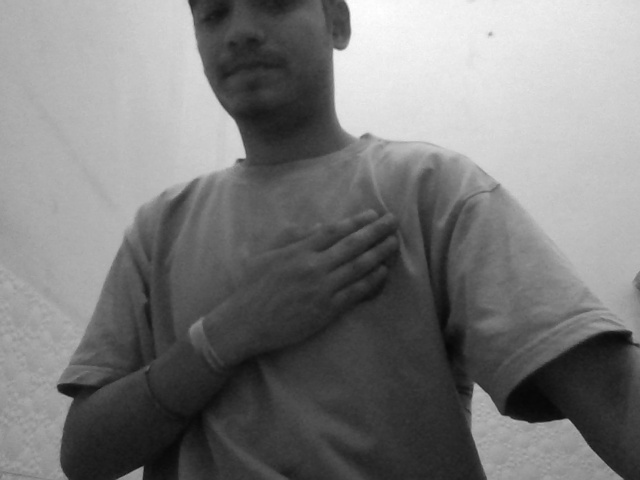Sorry: (207, 193, 432, 376)
